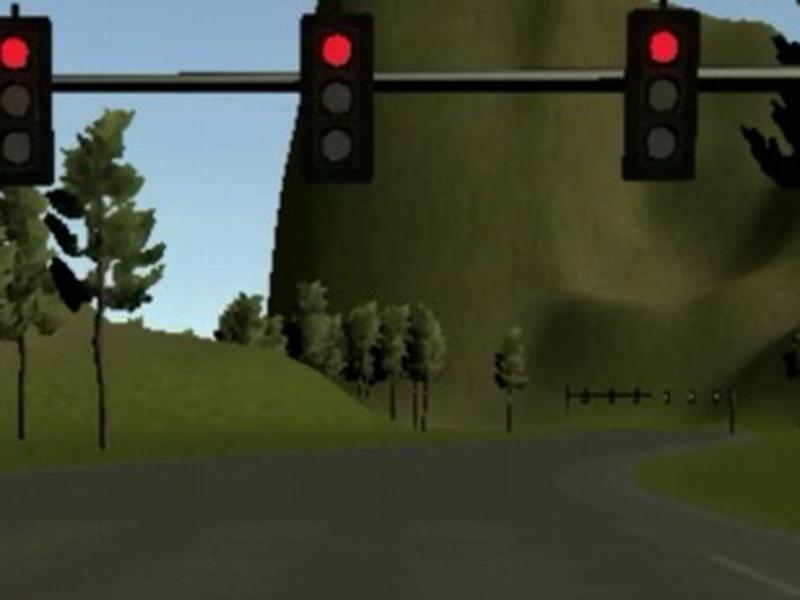Red: (621, 8, 702, 179), (300, 16, 375, 185), (1, 16, 54, 186)
